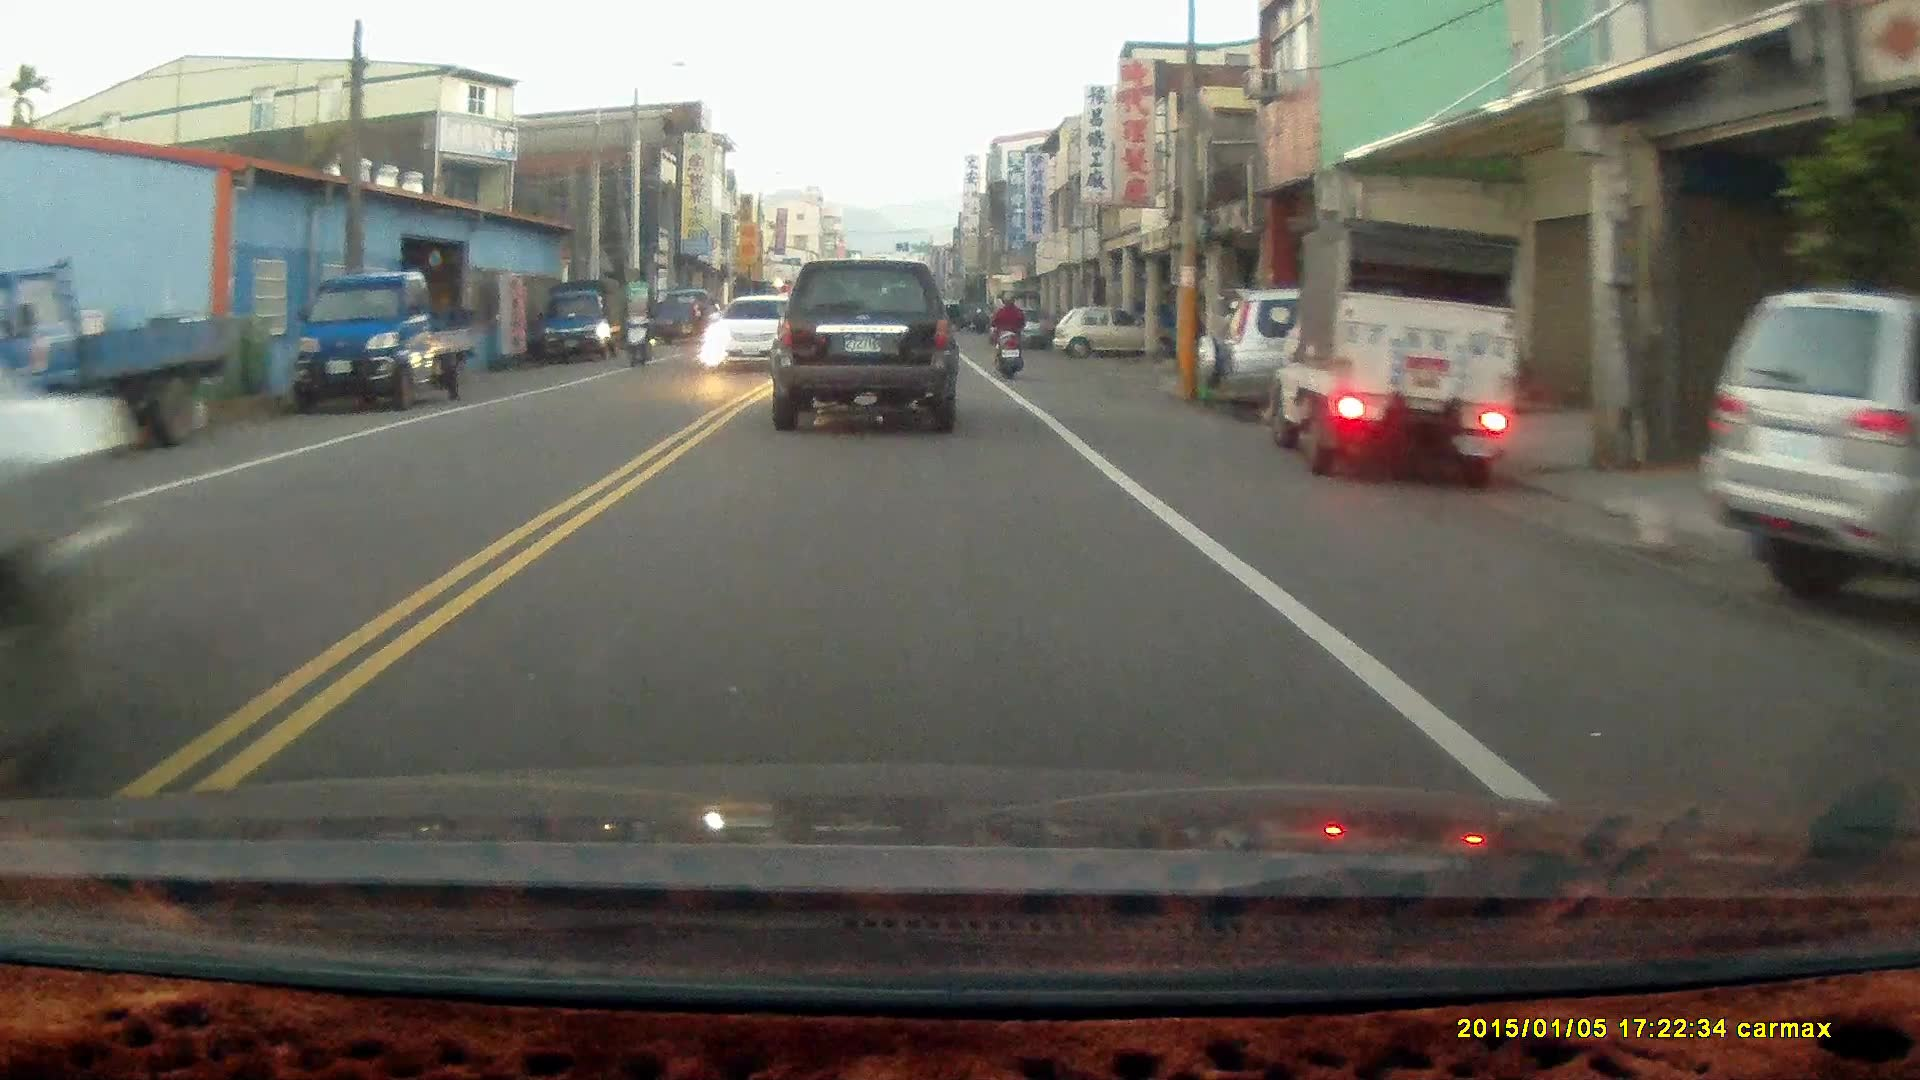pedestrian: (687, 297, 707, 348)
rider: (990, 283, 1027, 380), (620, 282, 656, 366)
vehicle: (1, 293, 197, 798), (1702, 288, 1920, 608), (1268, 218, 1530, 483), (1196, 277, 1536, 428), (5, 265, 227, 462), (769, 255, 963, 431), (293, 270, 478, 408), (535, 279, 635, 360), (705, 290, 787, 377), (1058, 306, 1141, 359)
